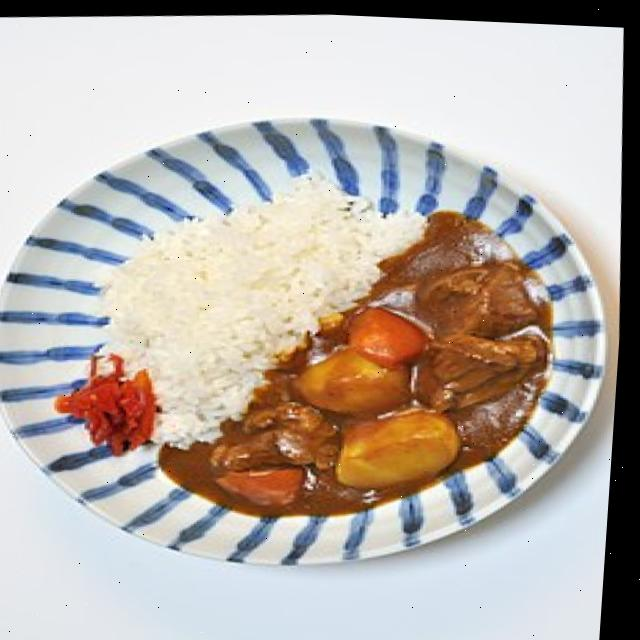Wet: (42, 144, 576, 535)
